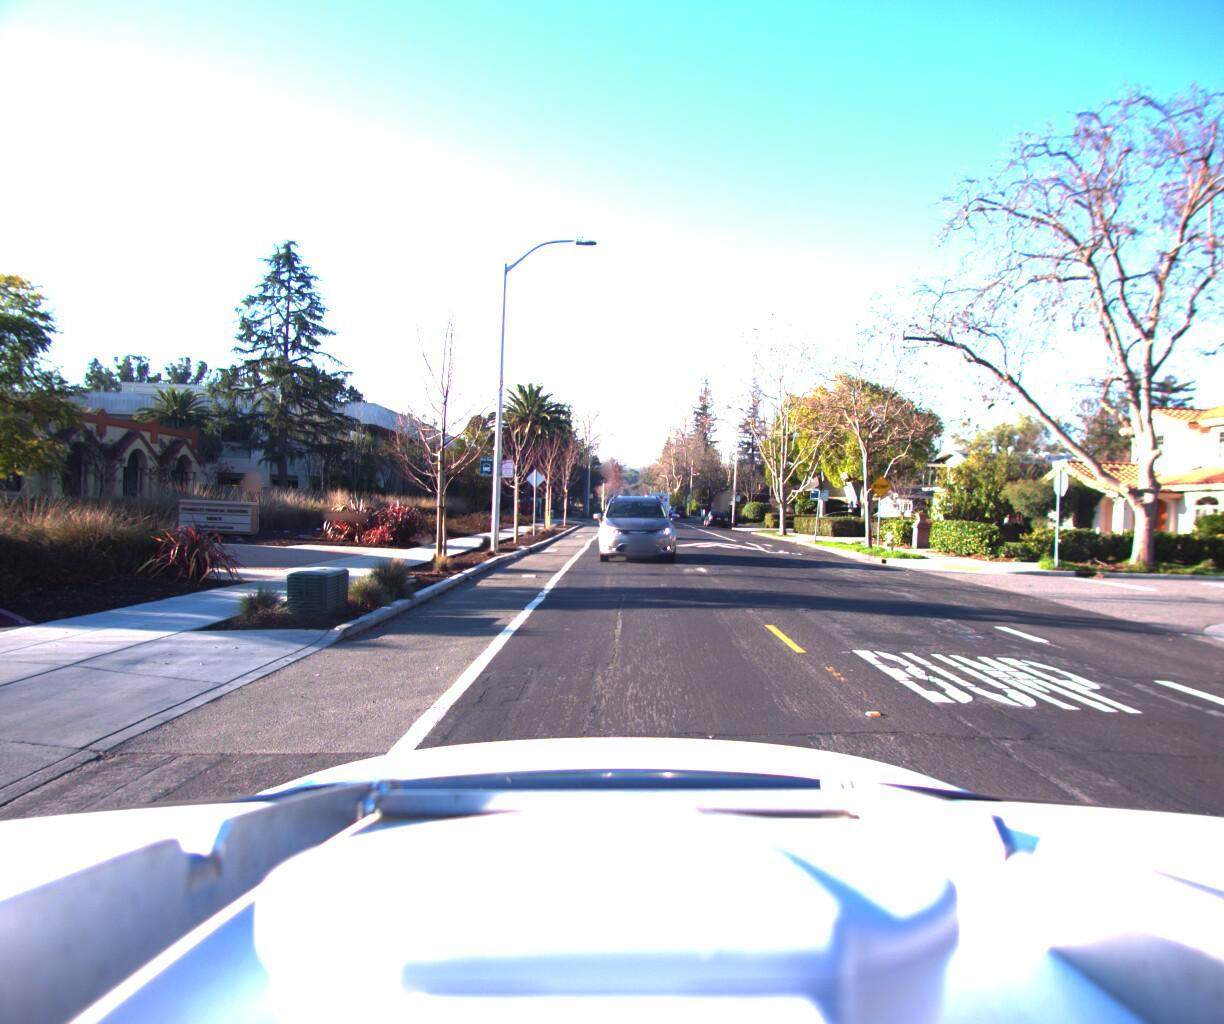car: (594, 482, 681, 566), (698, 506, 729, 525)
